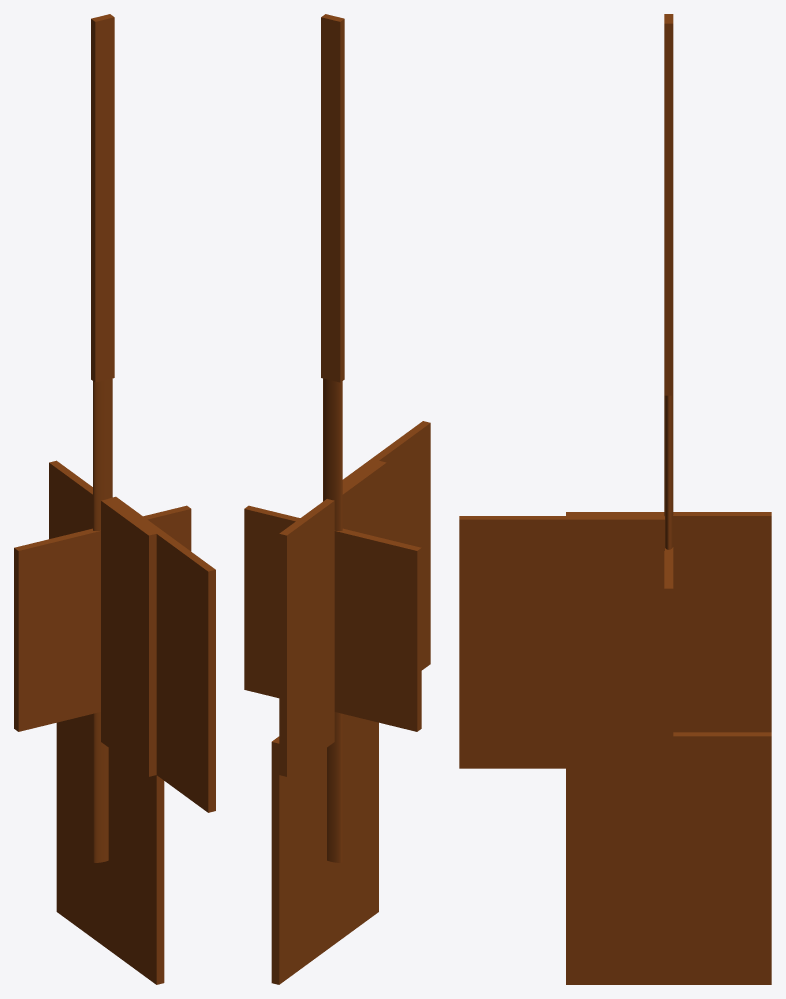
3 views of the same model, side by side, from view 1: azimuth 30°, elevation 25°; view 2: azimuth 150°, elevation 25°; view 3: azimuth 270°, elevation 25° (orthographic). The views are drawn at different scales.
Visible parts, largest first — view 1: backrest_attach, seat, backrest, backrest_attach2, leg1, leg1_attach2, leg1_attach; view 2: seat, backrest_attach, backrest, backrest_attach2, leg1, leg1_attach2, leg1_attach; view 3: backrest_attach, backrest_attach2, backrest, seat, leg1_attach2, leg1_attach, leg1.
Part boxes in pixels (x1,y1,x2,y2): backrest_attach: [56, 719, 164, 984]; seat: [14, 505, 191, 731]; backrest: [49, 460, 156, 776]; backrest_attach2: [109, 496, 215, 812]; leg1: [93, 378, 112, 862]; leg1_attach2: [91, 14, 114, 202]; leg1_attach: [91, 197, 114, 382]; seat: [244, 505, 421, 731]; backrest_attach: [271, 719, 378, 984]; backrest: [279, 460, 386, 776]; backrest_attach2: [342, 421, 430, 670]; leg1: [323, 378, 342, 862]; leg1_attach2: [321, 14, 344, 202]; leg1_attach: [321, 197, 344, 382]; backrest_attach: [566, 732, 771, 984]; backrest_attach2: [459, 516, 664, 768]; backrest: [566, 512, 771, 732]; seat: [664, 547, 673, 774]; leg1_attach2: [664, 14, 673, 210]; leg1_attach: [664, 209, 673, 395]; leg1: [664, 395, 673, 549].
Bounding box in the file's own units: 0.45 × 2.32 × 0.683.
